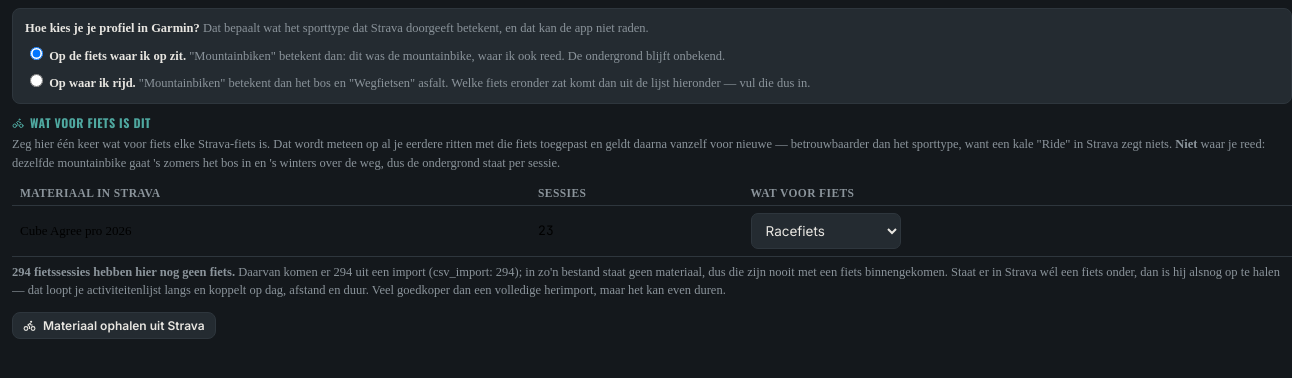
Test: GearMapping › biedt aan het materiaal op te halen voor ritten die het missen
Expected: the text "294 fietssessies hebben hier nog geen fiets." is shown, [12,265,235,279]
Expected: the text "csv_import: 294" is shown, [433,265,514,279]
Click the button "Materiaal ophalen uit Strava" at {"x": 114, "y": 326}, box [12,312,216,339]
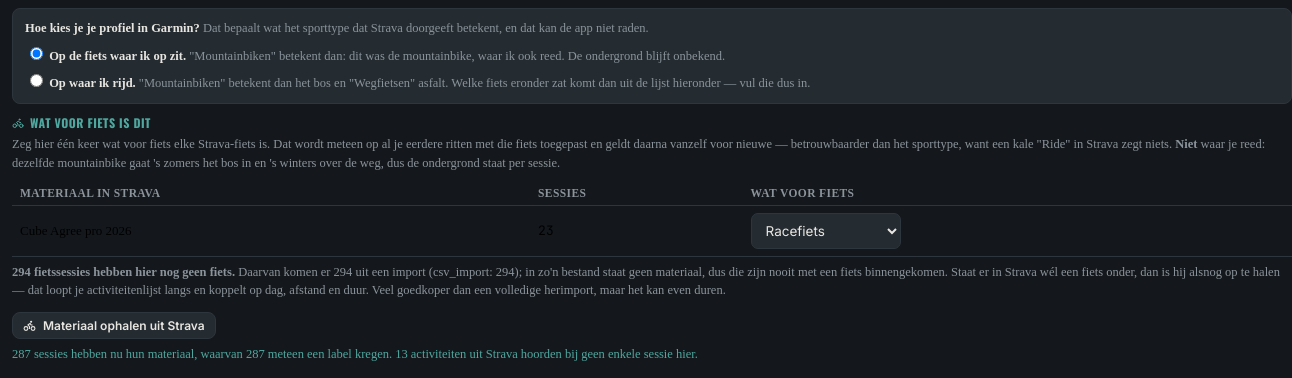
Expected: the text "13 activiteiten uit Strava hoorden bij geen enkele sessie" is shown, [12,347,698,361]
